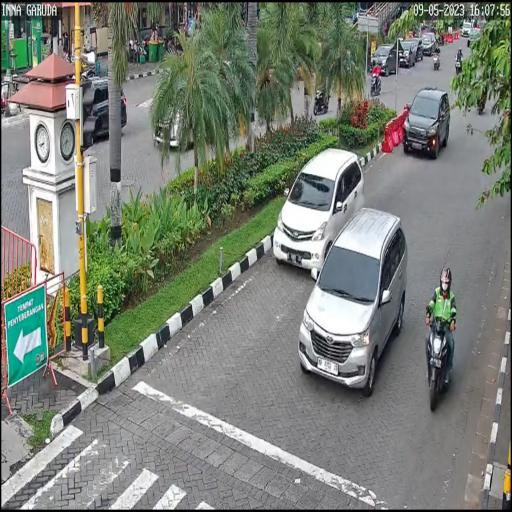mobil: (297, 200, 408, 398), (272, 144, 366, 279), (402, 82, 452, 166)
motor: (424, 295, 459, 421)
